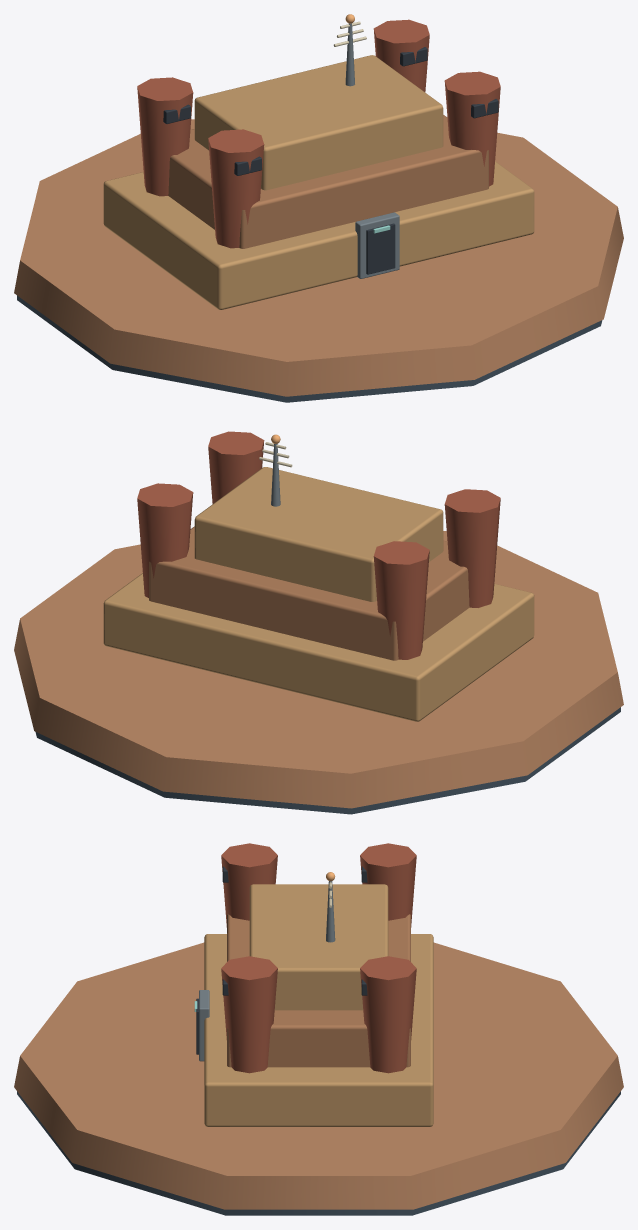
Rendered from emberstep.glb.
3 views of the same model, one above another, from view 1: azimuth 30°, elevation 25°; view 2: azimuth 150°, elevation 25°; view 3: azimuth 270°, elevation 25° (orthographic). The views are drawn at different scales.
Visible parts, largest first — view 1: Terrain cutaway, Condenser terrace (×3), Wind scoop (×4), Substrate, Airlock surround, Sealed door; view 2: Terrain cutaway, Condenser terrace (×3), Wind scoop (×4), Substrate; view 3: Terrain cutaway, Condenser terrace (×3), Wind scoop (×4), Substrate, Airlock surround.
Part boxes in pixels (<box>): Terrain cutaway: <box>14,119,623,396</box>; Condenser terrace (×3): <box>103,55,534,309</box>; Wind scoop (×4): <box>137,19,500,248</box>; Substrate: <box>17,295,602,402</box>; Airlock surround: <box>355,212,399,278</box>; Sealed door: <box>366,223,395,274</box>; Terrain cutaway: <box>14,531,623,808</box>; Condenser terrace (×3): <box>103,467,534,721</box>; Wind scoop (×4): <box>137,431,500,659</box>; Substrate: <box>35,707,620,814</box>; Terrain cutaway: <box>14,942,623,1209</box>; Condenser terrace (×3): <box>204,884,433,1126</box>; Wind scoop (×4): <box>221,843,416,1073</box>; Substrate: <box>17,1091,620,1215</box>; Airlock surround: <box>199,990,209,1061</box>.
Size of the model in its own units: 5.52 by 2.51 by 5.8.
